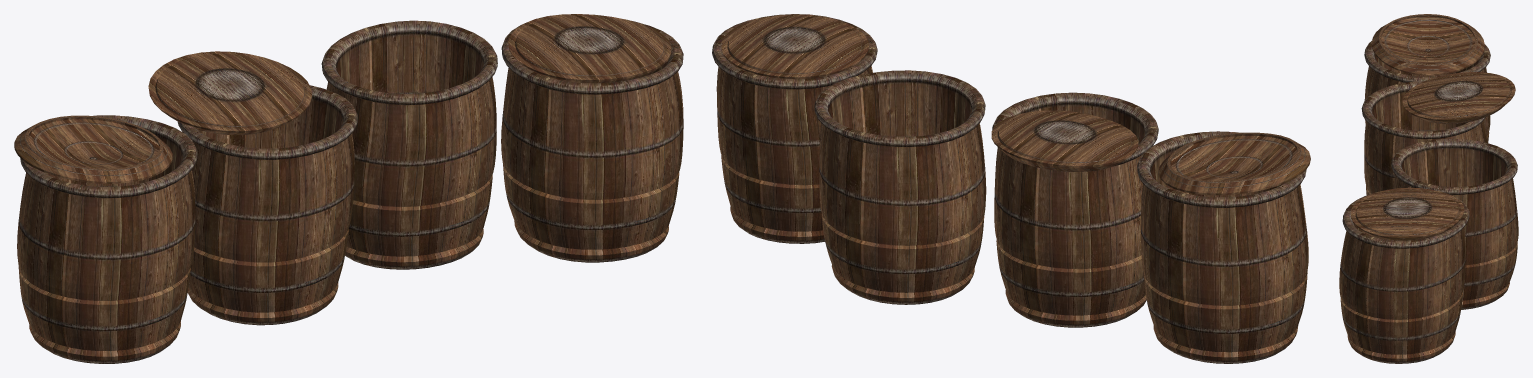
3 renders of one model, left to right at view 1: azimuth 30°, elevation 25°; view 2: azimuth 150°, elevation 25°; view 3: azimuth 270°, elevation 25°, orthographic. The views are drawn at different scales.
Parts seen in each view (by area): view 1: qingmo_obj_3060 [3851212], qingmo_obj_3064 [3851224], qingmo_obj_3065 [3851227], qingmo_obj_3062 [3851218], qingmo_obj_3061 [3851215], qingmo_obj_3059 [3851209], qingmo_obj_3063 [3851221]; view 2: qingmo_obj_3060 [3851212], qingmo_obj_3064 [3851224], qingmo_obj_3062 [3851218], qingmo_obj_3065 [3851227], qingmo_obj_3059 [3851209], qingmo_obj_3063 [3851221], qingmo_obj_3061 [3851215]; view 3: qingmo_obj_3065 [3851227], qingmo_obj_3060 [3851212], qingmo_obj_3062 [3851218], qingmo_obj_3063 [3851221], qingmo_obj_3059 [3851209], qingmo_obj_3061 [3851215], qingmo_obj_3064 [3851224].
Boxes of the visible parts, <box> form: qingmo_obj_3060 [3851212]: <box>321,20,497,269</box>; qingmo_obj_3064 [3851224]: <box>17,115,197,363</box>; qingmo_obj_3065 [3851227]: <box>501,21,683,262</box>; qingmo_obj_3062 [3851218]: <box>177,83,357,325</box>; qingmo_obj_3061 [3851215]: <box>148,51,311,134</box>; qingmo_obj_3059 [3851209]: <box>508,14,671,83</box>; qingmo_obj_3063 [3851221]: <box>14,115,172,183</box>; qingmo_obj_3060 [3851212]: <box>814,70,986,304</box>; qingmo_obj_3064 [3851224]: <box>1137,131,1308,363</box>; qingmo_obj_3062 [3851218]: <box>992,92,1158,327</box>; qingmo_obj_3065 [3851227]: <box>712,14,877,243</box>; qingmo_obj_3059 [3851209]: <box>721,14,869,79</box>; qingmo_obj_3063 [3851221]: <box>1158,132,1310,195</box>; qingmo_obj_3061 [3851215]: <box>991,110,1138,171</box>; qingmo_obj_3065 [3851227]: <box>1339,193,1469,363</box>; qingmo_obj_3060 [3851212]: <box>1391,138,1518,309</box>; qingmo_obj_3062 [3851218]: <box>1361,81,1487,195</box>; qingmo_obj_3063 [3851221]: <box>1371,14,1484,75</box>; qingmo_obj_3059 [3851209]: <box>1350,187,1464,240</box>; qingmo_obj_3061 [3851215]: <box>1402,72,1515,123</box>; qingmo_obj_3064 [3851224]: <box>1364,41,1490,142</box>.
Size of the model in its own units: 20.73 by 7.23 by 6.38.
Materials: 1 (1 with a texture image).
